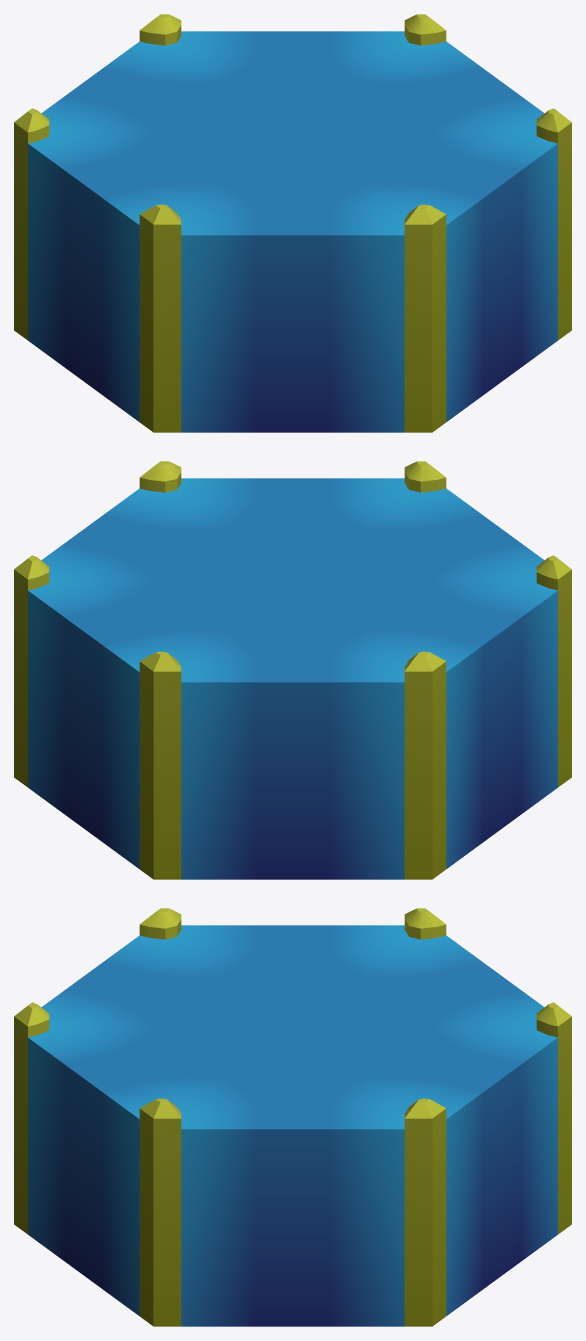
File: hex_river_L.glb
The picture shows the model from 3 angles, top to bottom: view 1: azimuth 30°, elevation 25°; view 2: azimuth 150°, elevation 25°; view 3: azimuth 270°, elevation 25°; orthographic projection.
Parts seen in each view (by area): view 1: hex_river_L; view 2: hex_river_L; view 3: hex_river_L.
Part boxes in pixels (x1,y1,x2,y2): hex_river_L: (14,14,571,432); hex_river_L: (14,461,571,879); hex_river_L: (14,908,571,1326).
Size of the model in its own units: 2 by 1 by 2.31.
Materials: 1 (1 with a texture image).
